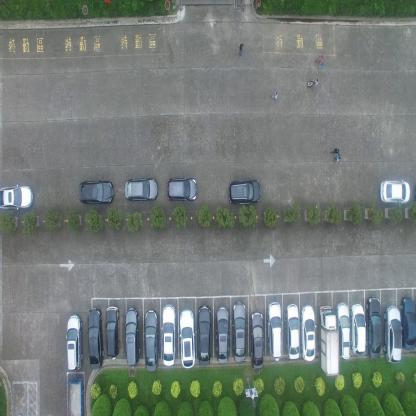car: (319, 304, 339, 378), (178, 308, 196, 369), (384, 304, 402, 364), (366, 294, 382, 361), (87, 308, 104, 368), (0, 182, 34, 212), (66, 314, 83, 372), (268, 300, 284, 361), (161, 303, 176, 368), (125, 306, 141, 366), (379, 176, 411, 206), (77, 180, 115, 205), (232, 299, 247, 362), (335, 301, 351, 360), (227, 179, 261, 206), (144, 309, 158, 373), (165, 176, 198, 203), (216, 305, 231, 364), (301, 304, 316, 363), (197, 303, 211, 366), (124, 177, 159, 202), (400, 296, 416, 350), (350, 302, 366, 356), (106, 305, 121, 361), (250, 311, 264, 370), (286, 301, 300, 360), (66, 378, 84, 415)
